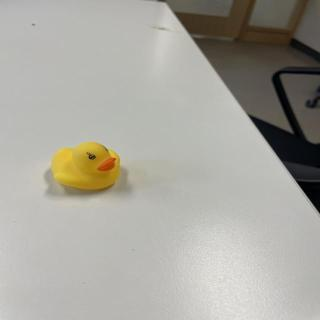duck_regular: (51, 142, 123, 192)
